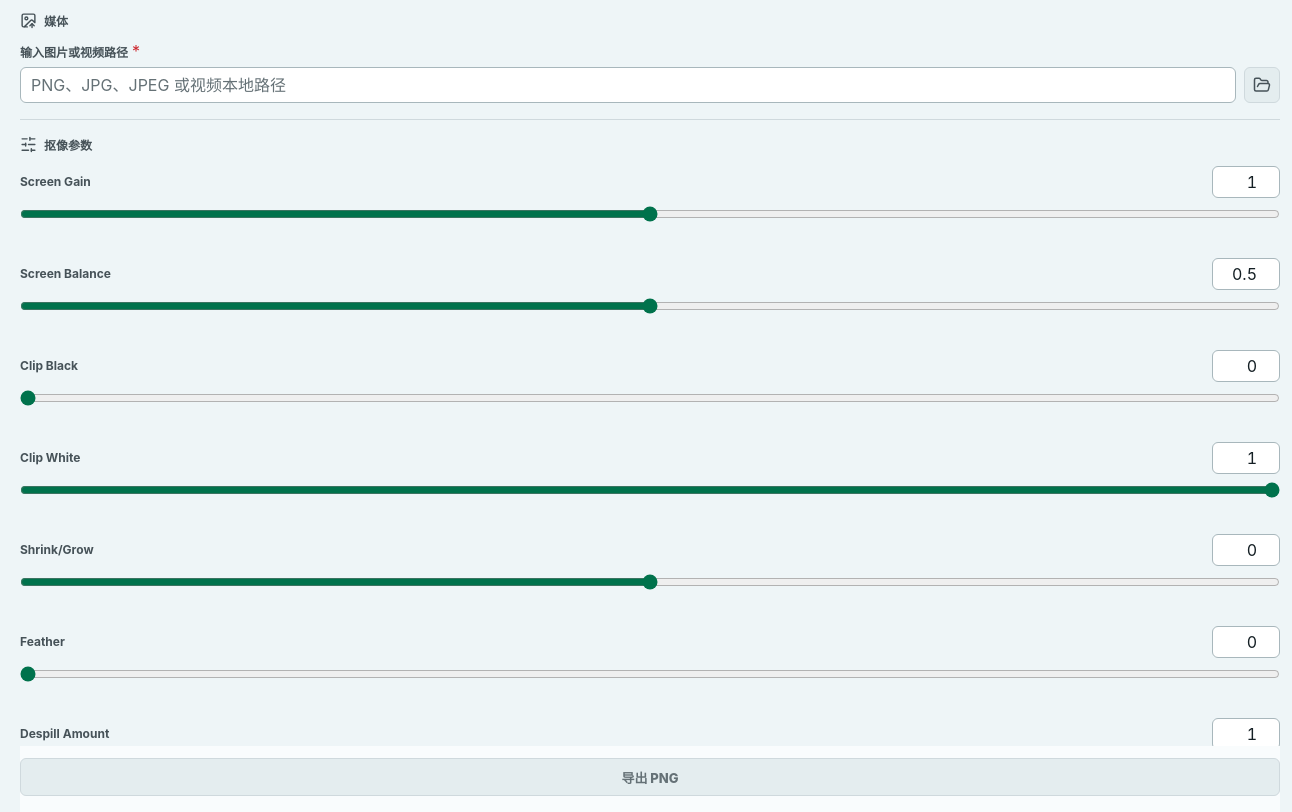
Scenario: ChromaKeyerForm › keeps slider and number values synchronized through controlled rerenders
Set the slider labelled "Screen Gain" to "1.37" at (880, 214), box [20,203,1280,225]
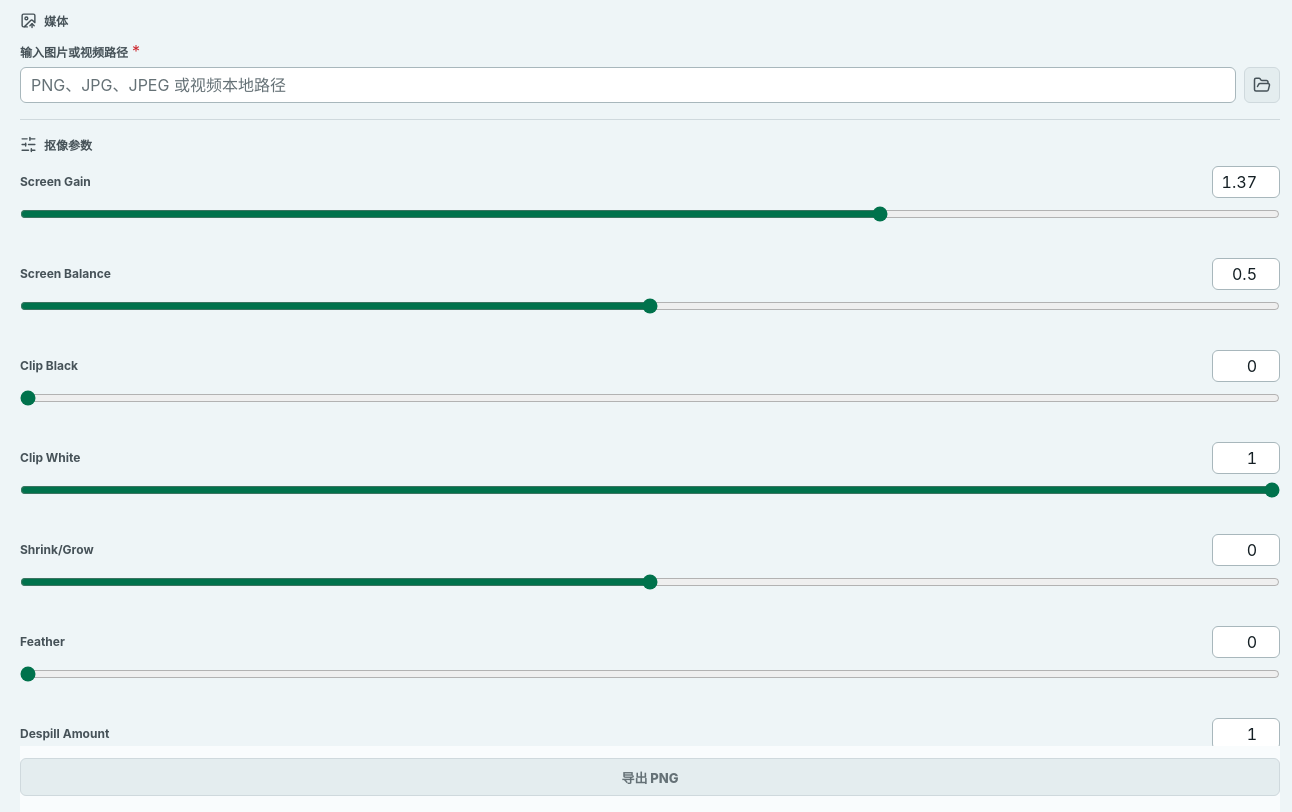
Expected: the number field named "Screen Gain 数值" holds "1.37"
Replace the text in the number field named "Screen Gain 数值" with "0.83" at (1246, 182), box [1212,166,1280,198]
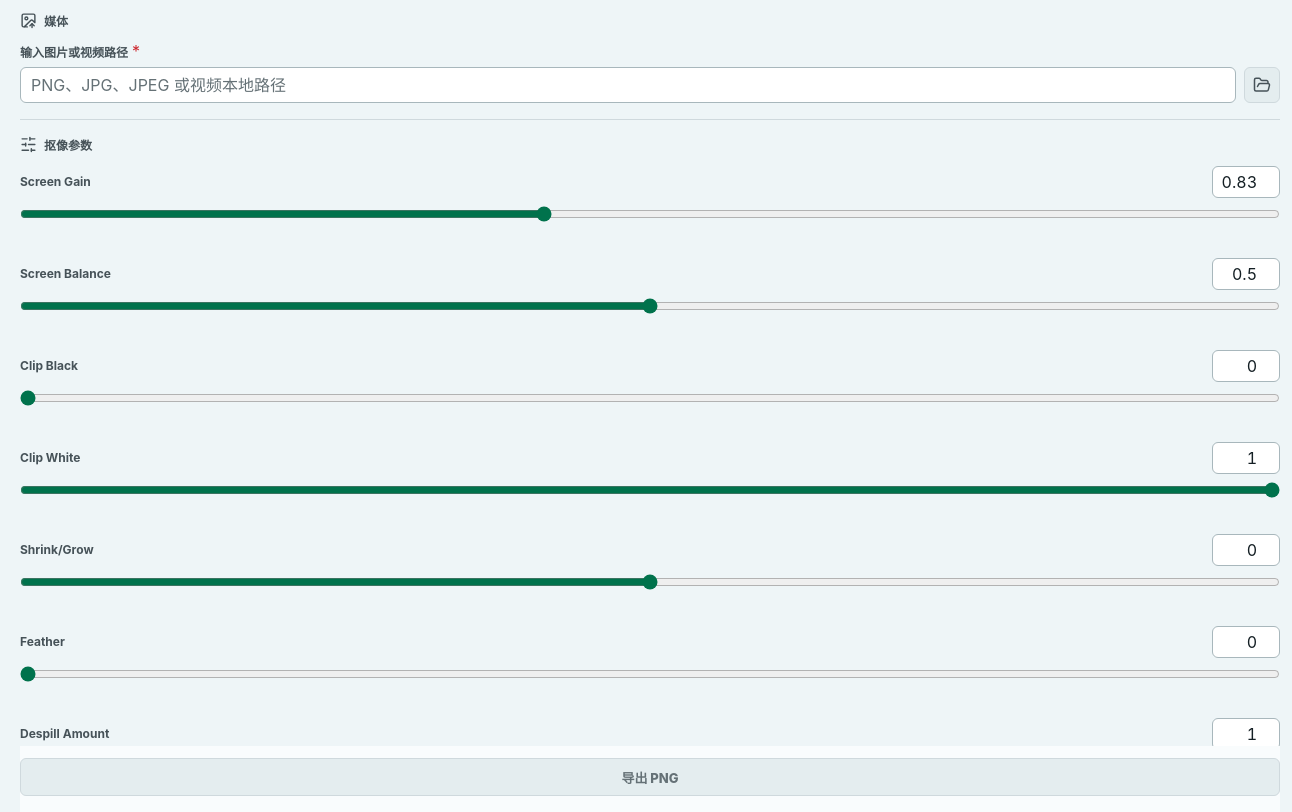
Expected: the slider labelled "Screen Gain" holds "0.83", [20,203,1280,225]
